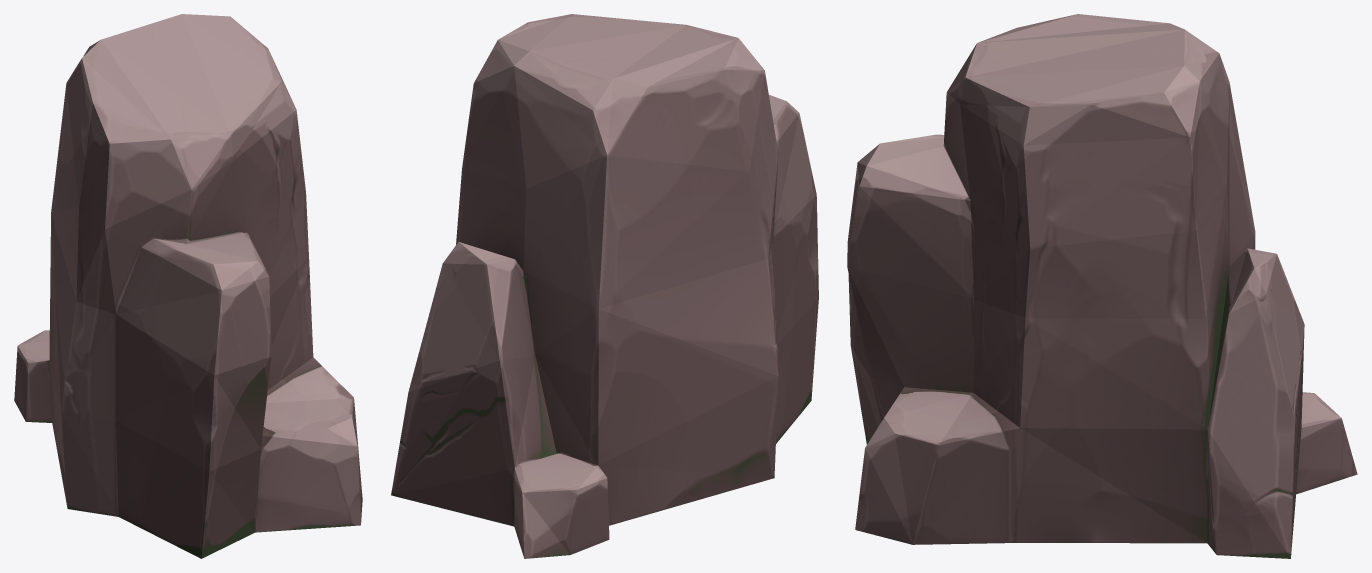
The model's file is piedra.gltf.
3 renders of one model, left to right at view 1: azimuth 30°, elevation 25°; view 2: azimuth 150°, elevation 25°; view 3: azimuth 270°, elevation 25°, orthographic. The views are drawn at different scales.
Parts seen in each view (by area): view 1: lp2_Material_0; view 2: lp2_Material_0; view 3: lp2_Material_0.
Boxes of the visible parts, x1,y1,x2,y2 form: lp2_Material_0: (14,14,362,558); lp2_Material_0: (391,14,818,558); lp2_Material_0: (847,14,1357,558).
Bounding box in the file's own units: 0.7329 × 1.09 × 1.12.
Materials: 1 (1 with a texture image).
